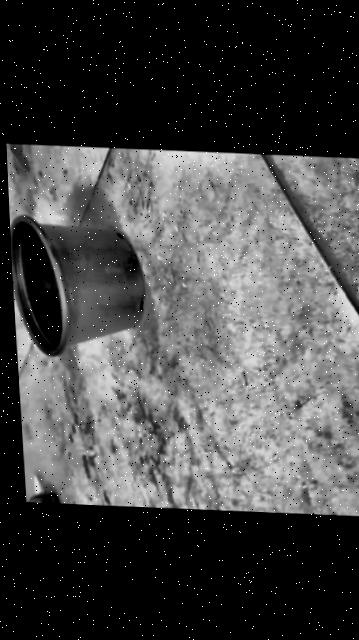pot: (9, 213, 148, 362)
